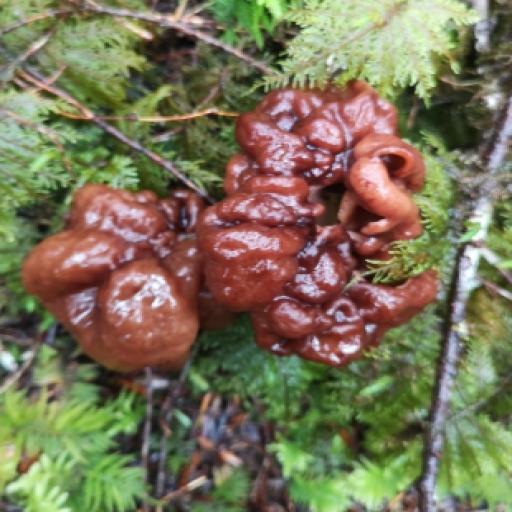False Morel: (12, 73, 447, 405)
